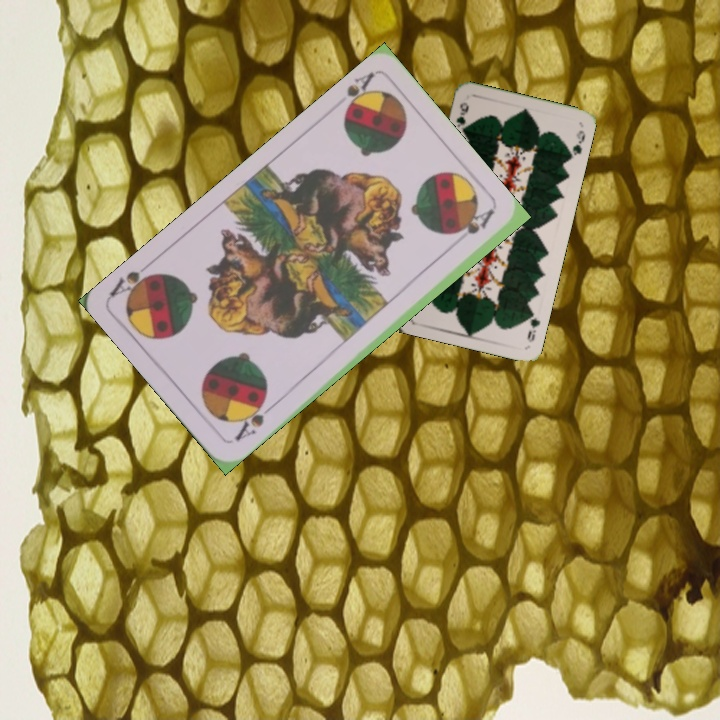G9: (523, 305, 543, 345), (452, 98, 471, 130)
SA: (230, 394, 277, 444), (339, 68, 380, 120)
